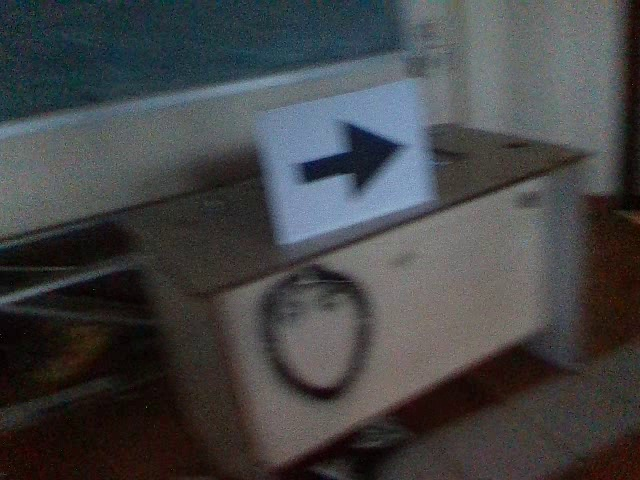Right: (285, 119, 404, 202)
